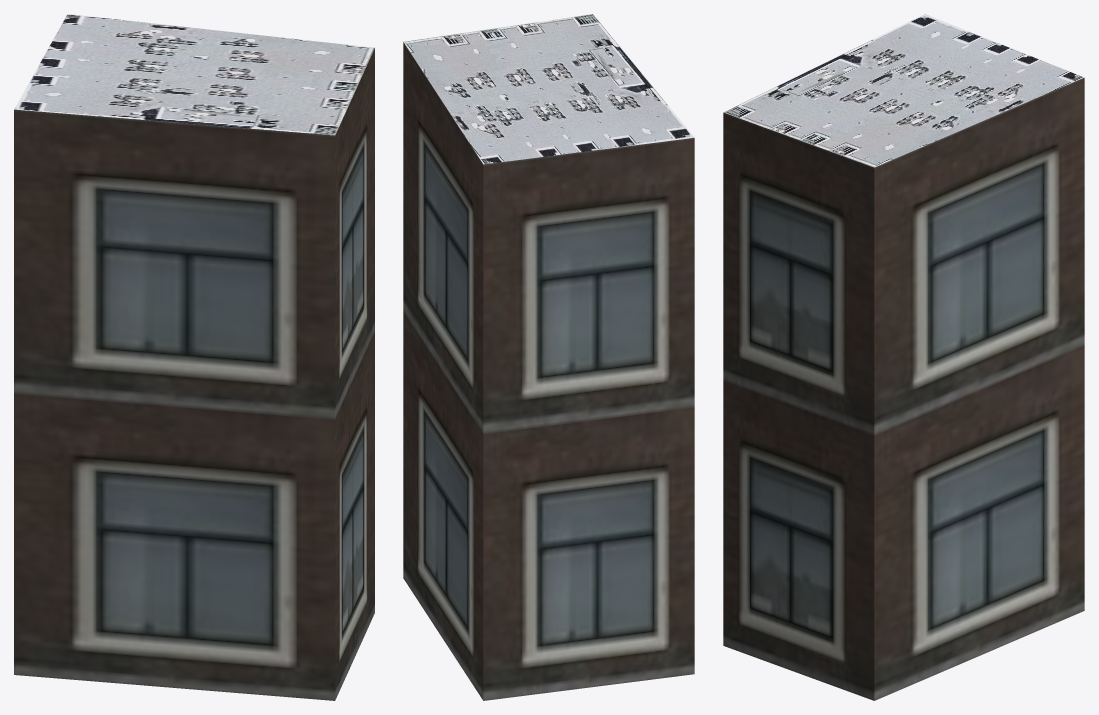
Rendered from ResTex__3962.fbx.
3 views of the same model, side by side, from view 1: azimuth 30°, elevation 25°; view 2: azimuth 150°, elevation 25°; view 3: azimuth 270°, elevation 25° (orthographic). The views are drawn at different scales.
Visible parts, largest first — view 1: CityEngineMaterial_16_m, CityEngineMaterial_15_m; view 2: CityEngineMaterial_16_m, CityEngineMaterial_15_m; view 3: CityEngineMaterial_16_m, CityEngineMaterial_15_m.
Boxes of the visible parts, x1,y1,x2,y2 form: CityEngineMaterial_16_m: [14, 48, 374, 700]; CityEngineMaterial_15_m: [14, 14, 374, 135]; CityEngineMaterial_16_m: [403, 42, 694, 700]; CityEngineMaterial_15_m: [403, 14, 694, 164]; CityEngineMaterial_16_m: [723, 77, 1084, 700]; CityEngineMaterial_15_m: [724, 14, 1083, 167].
Bounding box in the file's own units: 3.71 × 6 × 3.68.
2 materials, 2 textured.
